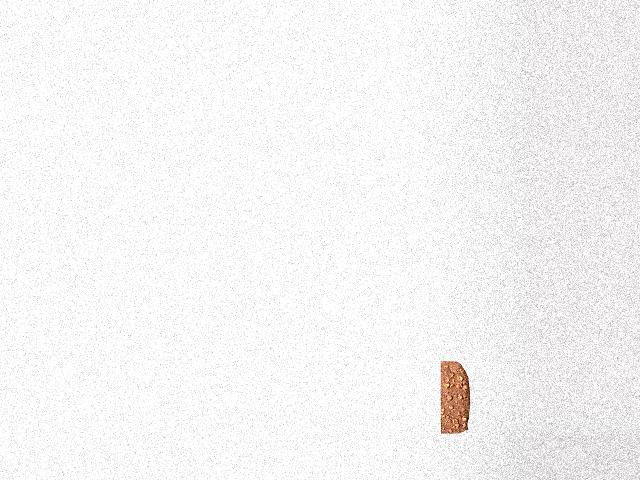chocolate: (437, 361, 475, 433)
